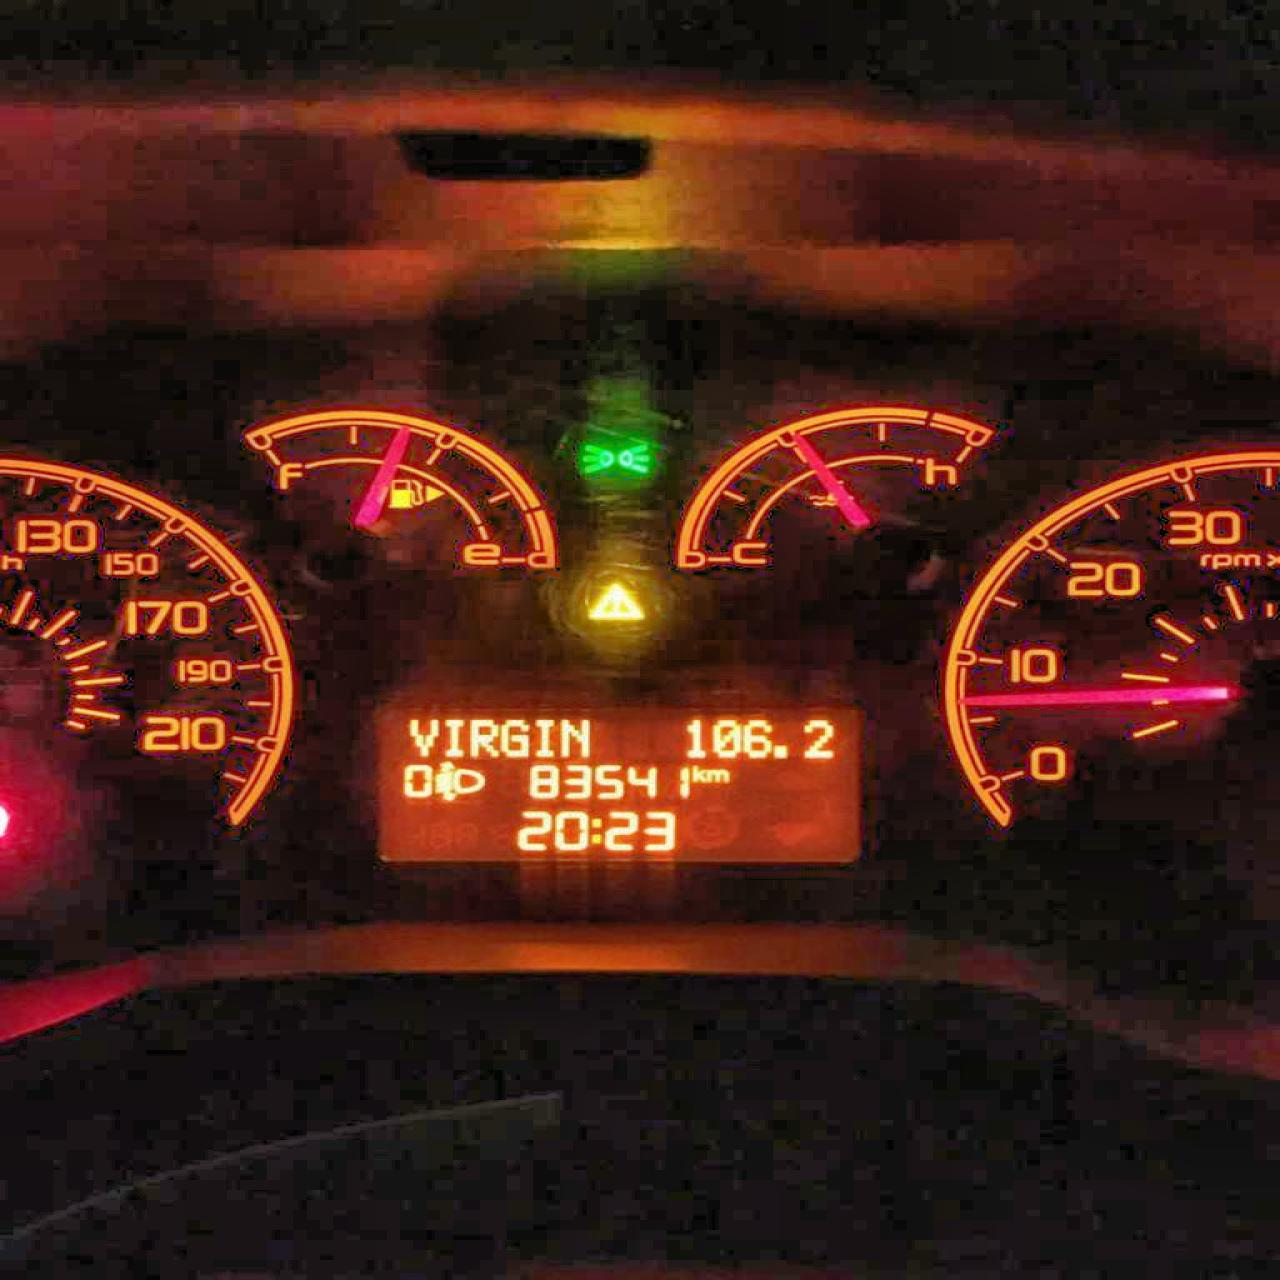-: (770, 742, 790, 760)
0: (552, 806, 588, 853), (710, 715, 740, 760), (400, 760, 431, 801)
1: (683, 714, 708, 761), (673, 765, 689, 799)
2: (798, 717, 839, 763), (513, 806, 550, 851), (604, 808, 636, 855)
3: (641, 809, 675, 855), (564, 760, 592, 799)
4: (625, 761, 659, 801)
5: (593, 761, 621, 801)
6: (742, 716, 770, 762)
8: (526, 760, 560, 801)
X: (558, 716, 592, 758), (467, 715, 498, 760), (407, 715, 438, 756), (498, 717, 530, 758), (532, 715, 556, 760), (440, 716, 463, 757), (704, 768, 730, 783), (591, 813, 601, 845), (690, 763, 704, 783)
odometer: (376, 704, 863, 865)
